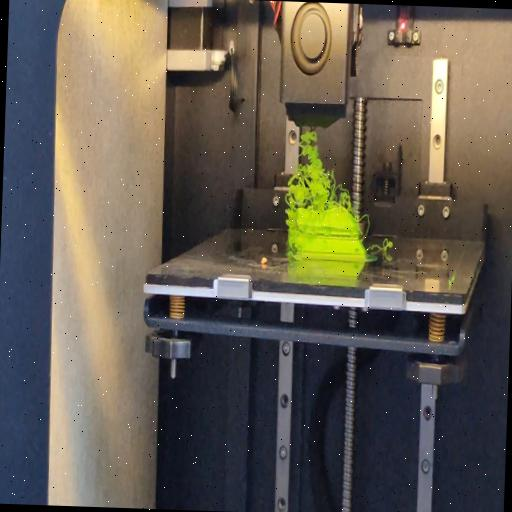spaghetti: (284, 124, 354, 214), (285, 216, 296, 260), (369, 236, 395, 251), (360, 212, 370, 242)
